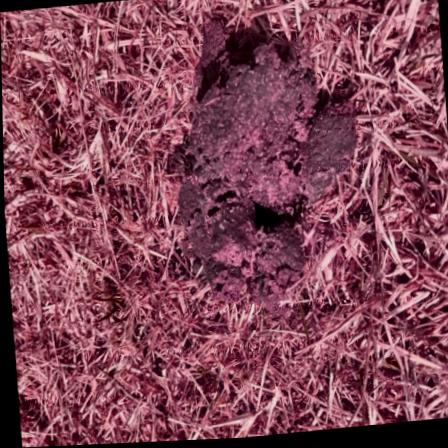dog-poop: (148, 0, 380, 330)
